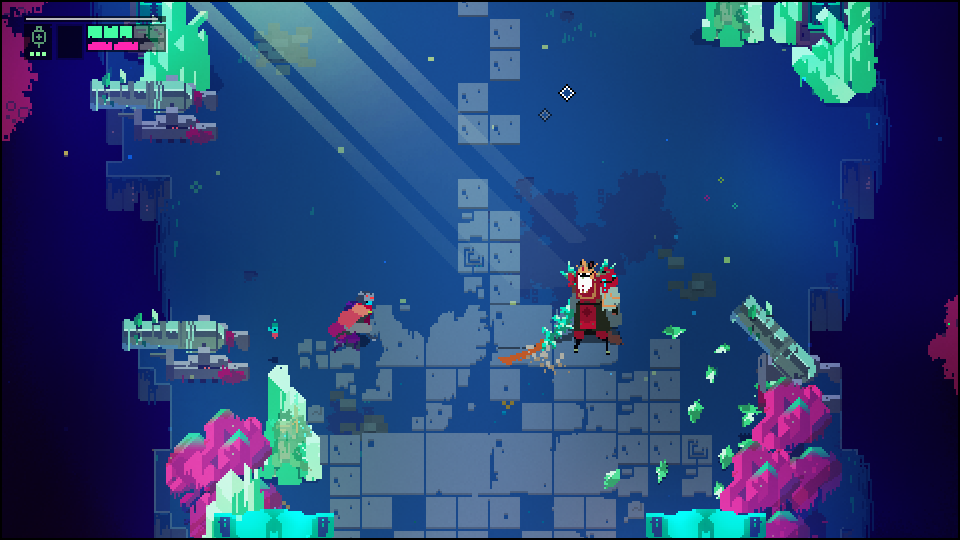hanged_man: (544, 257, 618, 355)
player: (339, 290, 374, 342)
